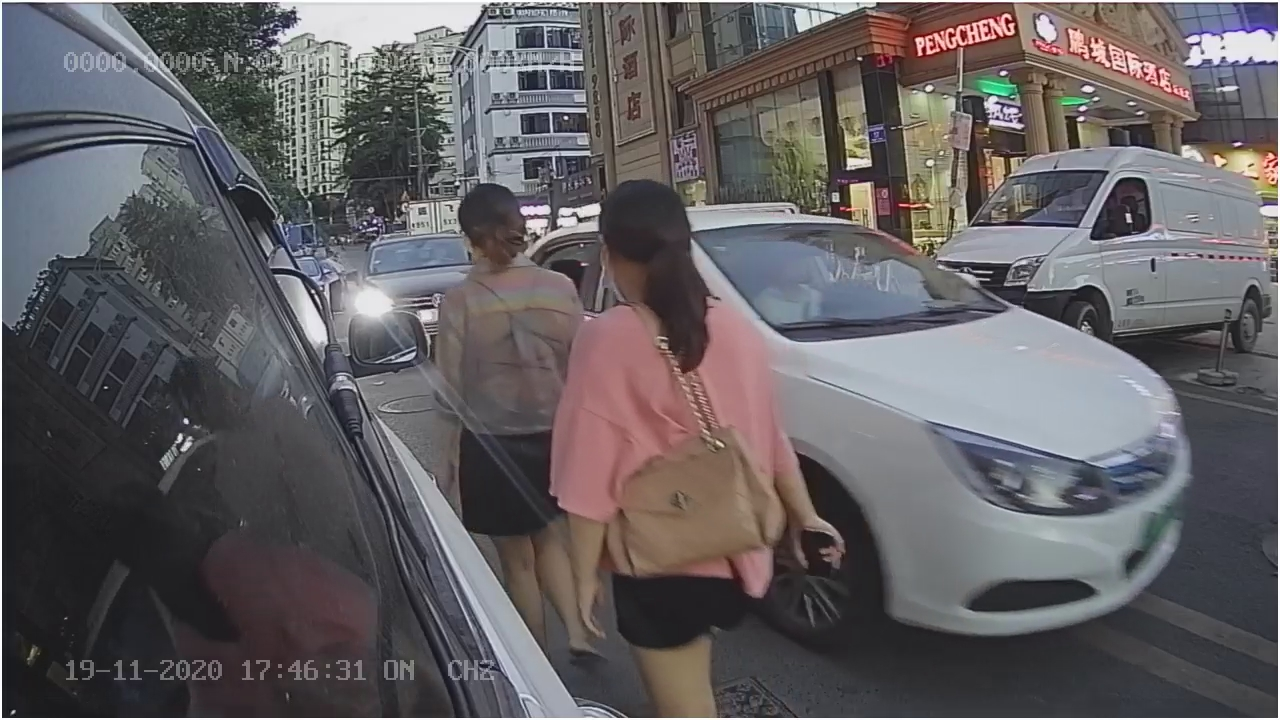person: (559, 186, 781, 663)
